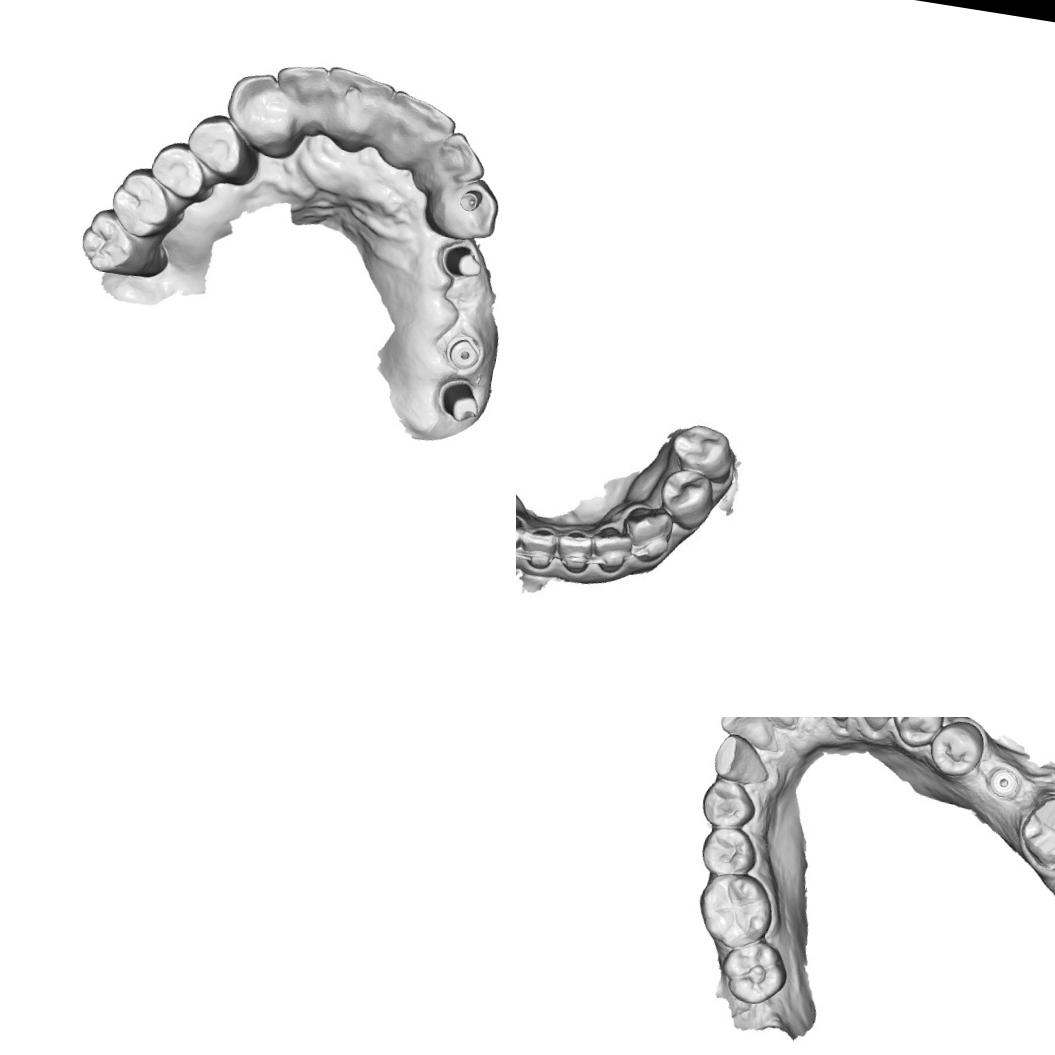abutment: (434, 375, 486, 426), (433, 236, 488, 284)
canine: (219, 67, 306, 162), (424, 172, 506, 244), (708, 731, 776, 788), (624, 509, 676, 565), (845, 717, 902, 735)
crown: (1013, 788, 1055, 876)
implant: (442, 332, 484, 374), (986, 765, 1022, 801)
incisor: (377, 87, 461, 178), (316, 63, 397, 155), (409, 125, 491, 200), (268, 58, 332, 138), (715, 717, 779, 753), (590, 524, 632, 572), (521, 521, 560, 571), (556, 525, 594, 574)
molar: (75, 203, 175, 282), (692, 868, 779, 954), (106, 164, 190, 245), (714, 934, 793, 1010)
premolar: (182, 109, 260, 185), (145, 135, 220, 205), (664, 418, 735, 481), (925, 717, 988, 782), (696, 822, 762, 880), (698, 776, 759, 832), (660, 467, 712, 522), (888, 717, 948, 752)
